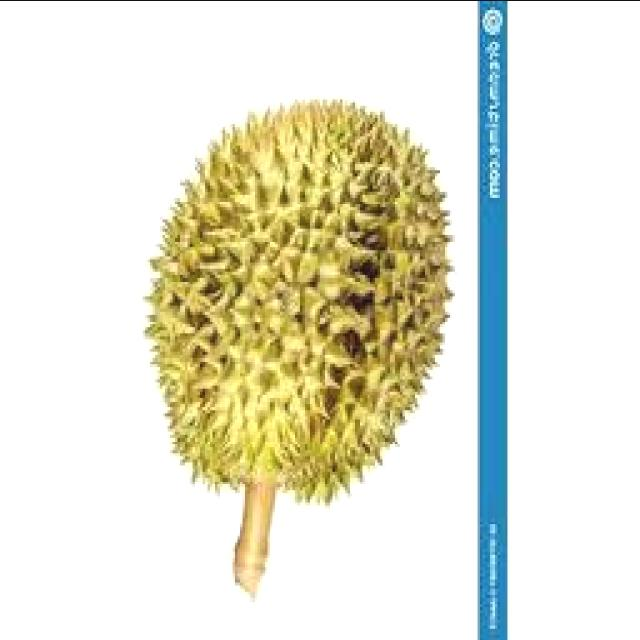non_orange: (118, 86, 468, 517)
